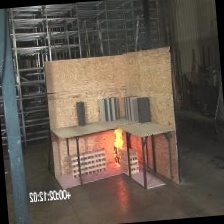fire: (101, 123, 127, 162)
